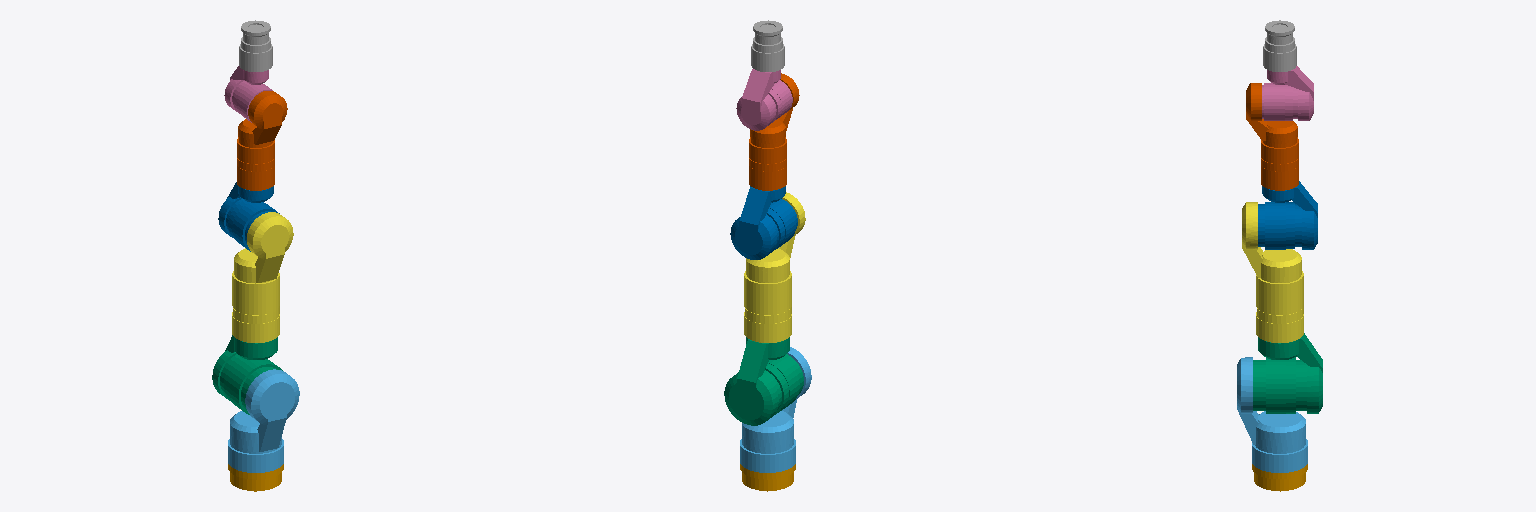
URDF robot description (arm):
<?xml version="1.0"?>
<robot name="arm"
	xmlns:sensor="http://playerstage.sourceforge.net/gazebo/xmlschema/#sensor"
	xmlns:controller="http://playerstage.sourceforge.net/gazebo/xmlschema/#controller"
	xmlns:interface="http://playerstage.sourceforge.net/gazebo/xmlschema/#interface">

	<!-- ################################################################################# -->
	<!-- add links-->
	<link name="link_arm0">
		<inertial>
			<origin xyz="0 0 0" rpy="0 0 0" />
			<mass value="1.8"/>
			<inertia ixx="0.01"  ixy="0"  ixz="0" iyy="0.01" iyz="0" izz="0.01" />
		</inertial>
		<visual>
			<origin xyz="0 0 0" rpy="1.5707963 0 0" />
			<geometry>
				<mesh filename="package://cob3_defs/common/files/meshes/arm0.stl" />
			</geometry>
		</visual>
		<collision>
			<origin xyz="0 0 0" rpy="1.5707963 0 0" />
			<geometry>
				<mesh filename="package://cob3_defs/common/files/meshes/arm0.stl" />
			</geometry>
		</collision>
	</link>
	
	<link name="link_arm1">
		<inertial>
			<origin xyz="0 0 0" rpy="0 0 0"/>
			<mass value="3.6"/>
			<inertia ixx="0.01"  ixy="0"  ixz="0" iyy="0.01" iyz="0" izz="0.01" />
		</inertial>
		<visual>
			<origin xyz="0 0 0" rpy="0 0 0" />
			<geometry>
				<mesh filename="package://cob3_defs/common/files/meshes/arm1.stl" />
			</geometry>
		</visual>
		<collision>
			<origin xyz="0 0 0" rpy="0 0 0" />
			<geometry>
				<mesh filename="package://cob3_defs/common/files/meshes/arm1.stl"/>
			</geometry>
		</collision>
	</link>
	
	<link name="link_arm2">
		<inertial>
			<origin xyz="0 0 0" rpy="0 0 0"/>
			<mass value="2.8"/>
			<inertia ixx="0.01"  ixy="0"  ixz="0" iyy="0.01" iyz="0" izz="0.01" />
		</inertial>
		<visual>
			<origin xyz="0 0 0" rpy="0 0 0" />
			<geometry>
				<mesh filename="package://cob3_defs/common/files/meshes/arm2.stl" />
			</geometry>
		</visual>
		<collision>
			<origin xyz="0 0 0" rpy="0 0 0" />
			<geometry>
				<mesh filename="package://cob3_defs/common/files/meshes/arm2.stl"/>
			</geometry>
		</collision>
	</link>
	
	<link name="link_arm3">
		<inertial>
			<origin xyz="0 0 0" rpy="0 0 0"/>
			<mass value="2.0"/>
			<inertia ixx="0.01"  ixy="0"  ixz="0" iyy="0.01" iyz="0" izz="0.01" />
		</inertial>
		<visual>
			<origin xyz="0 0 0" rpy="0 0 0" />
			<geometry>
				<mesh filename="package://cob3_defs/common/files/meshes/arm3.stl" />
			</geometry>
		</visual>
		<collision>
			<origin xyz="0 0 0" rpy="0 0 0" />
			<geometry>
				<mesh filename="package://cob3_defs/common/files/meshes/arm3.stl"/>
			</geometry>
		</collision>
	</link>
	
	<link name="link_arm4">
		<inertial>
			<origin xyz="0 0 0" rpy="0 0 0"/>
			<mass value="1.6"/>
			<inertia ixx="0.01"  ixy="0"  ixz="0" iyy="0.01" iyz="0" izz="0.01" />
		</inertial>
		<visual>
			<origin xyz="0 0 0" rpy="0 0 0" />
			<geometry>
				<mesh filename="package://cob3_defs/common/files/meshes/arm4.stl" />
			</geometry>
		</visual>
		<collision>
			<origin xyz="0 0 0" rpy="0 0 0" />
			<geometry>
				<mesh filename="package://cob3_defs/common/files/meshes/arm4.stl"/>
			</geometry>
		</collision>
	</link>
	
	<link name="link_arm5">
		<inertial>
			<origin xyz="0 0 0" rpy="0 0 0"/>
			<mass value="1.2"/>
			<inertia ixx="0.01"  ixy="0"  ixz="0" iyy="0.01" iyz="0" izz="0.01" />
		</inertial>
		<visual>
			<origin xyz="0 0 0" rpy="0 0 0" />
			<geometry>
				<mesh filename="package://cob3_defs/common/files/meshes/arm5.stl" />
			</geometry>
		</visual>
		<collision>
			<origin xyz="0 0 0" rpy="0 0 0" />
			<geometry>
				<mesh filename="package://cob3_defs/common/files/meshes/arm5.stl"/>
			</geometry>
		</collision>
	</link>
	
	<link name="link_arm6">
		<inertial>
			<origin xyz="0 0 0" rpy="0 0 0"/>
			<mass value="1.1"/>
			<inertia ixx="0.01"  ixy="0"  ixz="0" iyy="0.01" iyz="0" izz="0.01" />
		</inertial>
		<visual>
			<origin xyz="0 0 0" rpy="0 0 0" />
			<geometry>
				<mesh filename="package://cob3_defs/common/files/meshes/arm6.stl" />
			</geometry>
		</visual>
		<collision>
			<origin xyz="0 0 0" rpy="0 0 0" />
			<geometry>
				<mesh filename="package://cob3_defs/common/files/meshes/arm6.stl"/>
			</geometry>
		</collision>
	</link>
	
	<link name="link_arm7">
		<inertial>
			<origin xyz="0 0 0" rpy="0 0 0"/>
			<mass value="0.5"/>
			<inertia ixx="0.01"  ixy="0"  ixz="0" iyy="0.01" iyz="0" izz="0.01" />
		</inertial>
		<visual>
			<origin xyz="0 0 0" rpy="0 0 0" />
			<geometry>
				<mesh filename="package://cob3_defs/common/files/meshes/arm7.stl" />
			</geometry>
		</visual>
		<collision>
			<origin xyz="0 0 0" rpy="0 0 0" />
			<geometry>
				<mesh filename="package://cob3_defs/common/files/meshes/arm7.stl"/>
			</geometry>
		</collision>
	</link>

	<gazebo reference="link_arm0">
		<material>Gazebo/Grey</material>
		<turnGravityOff>false</turnGravityOff>
	</gazebo>

	<gazebo reference="link_arm1">
		<material>Gazebo/Grey</material>
		<turnGravityOff>false</turnGravityOff>
	</gazebo>
	
	<gazebo reference="link_arm2">
		<material>Gazebo/Red</material>
		<turnGravityOff>false</turnGravityOff>
	</gazebo>
	
	<gazebo reference="link_arm3">
		<material>Gazebo/Grey</material>
		<turnGravityOff>false</turnGravityOff>
	</gazebo>
	
	<gazebo reference="link_arm4">
		<material>Gazebo/Red</material>
		<turnGravityOff>false</turnGravityOff>
	</gazebo>

	<gazebo reference="link_arm5">
		<material>Gazebo/Grey</material>
		<turnGravityOff>false</turnGravityOff>
	</gazebo>

	<gazebo reference="link_arm6">
		<material>Gazebo/Red</material>
		<turnGravityOff>false</turnGravityOff>
	</gazebo>

	<gazebo reference="link_arm7">
		<material>Gazebo/Grey</material>
		<turnGravityOff>false</turnGravityOff>
	</gazebo>

	<!-- ################################################################################# -->
	<!-- add joints, corresponding to powercubes PRL 120,120,100,100,80,80,60 -->
	<joint name="joint_arm1" type="revolute">
		<origin xyz="0 0 0.0569" rpy="0 0 0"/>
		<parent link="link_arm0"/>
		<child link="link_arm1"/>
		<axis xyz="0 0 1"/>
	    <calibration reference_position="1.42154"/>
		<limit effort="370" velocity="0.4363" lower="-6.2831853" upper="6.2831853"/> <!-- rads. effort is N-m applied force. vel is rad/s. -->
		<!--safety_controller k_position="10" k_velocity="10" soft_lower_limit="-6.2" soft_upper_limit="6.2"/-->
		<!--dynamics damping="10.0" friction="10.0"/-->
	</joint>
	
	<joint name="joint_arm2" type="revolute">
		<origin xyz="0 0 0.1931" rpy="0 0 0"/>
		<parent link="link_arm1"/>
		<child link="link_arm2"/>
		<axis xyz="0 1 0"/>
	    <calibration reference_position="1.47881"/>
		<limit effort="370" velocity="0.4363" lower="-2.0943951" upper="2.0943951"/> <!-- rads. effort is N-m applied force. vel is rad/s. -->
		<!--safety_controller k_position="10" k_velocity="10" soft_lower_limit="-2.0" soft_upper_limit="2.0"/-->
		<!--dynamics damping="10.0" friction="10.0"/-->
	</joint>

	<joint name="joint_arm3" type="revolute">
		<origin xyz="0 0 0.110" rpy="0 0 0"/>
		<parent link="link_arm2"/>
		<child link="link_arm3"/>
		<axis xyz="0 0 1"/>
	    <calibration reference_position="-6.28087"/>
		<limit effort="176" velocity="0.4189" lower="-6.2831853" upper="6.2831853"/> <!-- rads. effort is N-m applied force. vel is rad/s. -->
		<!--safety_controller k_position="10" k_velocity="10" soft_lower_limit="-6.2" soft_upper_limit="6.2"/-->
		<!--dynamics damping="10.0" friction="10.0"/-->
	</joint>	

	<joint name="joint_arm4" type="revolute">
		<origin xyz="0 0 0.298" rpy="0 0 0" />
		<parent link="link_arm3"/>
		<child link="link_arm4"/>
		<axis xyz="0 1 0" />
	    <calibration reference_position="0.0192641"/>
		<limit effort="176" velocity="0.4189" upper="2.0943951" lower="-2.0943951" /> <!-- rads. effort is N-m applied force. vel is rad/s. -->
		<!--safety_controller k_position="10" k_velocity="10" soft_lower_limit="-2.0" soft_upper_limit="2.0"/-->
		<!--dynamics damping="10.0" friction="10.0"/-->
	</joint>

	<joint name="joint_arm5" type="revolute">
		<origin xyz="0 0 0.100" rpy="0 0 0" />
		<parent link="link_arm4"/>
		<child link="link_arm5"/>
		<axis xyz="0 0 1" />
	    <calibration reference_position="-2.86457"/>
		<limit effort="41.6" velocity="0.4363" upper="6.2831853" lower="-6.2831853" /> <!-- rads. effort is N-m applied force. vel is rad/s. -->
		<!--safety_controller k_position="10" k_velocity="10" soft_lower_limit="-6.2" soft_upper_limit="6.2"/-->
		<!--dynamics damping="10.0" friction="10.0"/-->
	</joint>
	
	<joint name="joint_arm6" type="revolute">
		<origin xyz="0 0 0.2165" rpy="0 0 0" />
		<parent link="link_arm5"/>
		<child link="link_arm6"/>
		<axis xyz="0 1 0" />
	    <calibration reference_position="0.00414364"/>
		<limit effort="20.1" velocity="0.4363" upper="2.0943951" lower="-2.0943951" /> <!-- rads. effort is N-m applied force. vel is rad/s. -->
		<!--safety_controller k_position="10" k_velocity="10" soft_lower_limit="-2.0" soft_upper_limit="2.0"/-->
		<!--dynamics damping="10.0" friction="10.0"/-->
	</joint>
	
	<joint name="joint_arm7" type="revolute">
		<origin xyz="0 0 0.080" rpy="0 0 0" />
		<parent link="link_arm6"/>
		<child link="link_arm7"/>
		<axis xyz="0 0 1" />
	    <calibration reference_position="-0.000421242"/>
		<limit effort="9.6" velocity="0.8727" upper="6.2831853" lower="-6.2831853" /> <!-- rads. effort is N-m applied force. vel is rad/s. -->
		<!--safety_controller k_position="10" k_velocity="10" soft_lower_limit="-6.2" soft_upper_limit="6.2"/-->
		<!--dynamics damping="10.0" friction="10.0"/-->
	</joint>

	<!-- ################################################################################# -->
	<!-- add transmissions -->
	<transmission name="trans_arm1" type="SimpleTransmission">
		<actuator name="motor_arm1"/>
		<joint name="joint_arm1"/>
		<mechanicalReduction>1</mechanicalReduction>
	</transmission>
	
	<transmission name="trans_arm2" type="SimpleTransmission">
		<actuator name="motor_arm2"/>
		<joint name="joint_arm2"/>
		<mechanicalReduction>1</mechanicalReduction>
	</transmission>
	
	<transmission name="trans_arm3" type="SimpleTransmission">
		<actuator name="motor_arm3"/>
		<joint name="joint_arm3"/>
		<mechanicalReduction>1</mechanicalReduction>
	</transmission>
	
	<transmission name="trans_arm4" type="SimpleTransmission">
		<actuator name="motor_arm4"/>
		<joint name="joint_arm4"/>
		<mechanicalReduction>1</mechanicalReduction>
	</transmission>
	
	<transmission name="trans_arm5" type="SimpleTransmission">
		<actuator name="motor_arm5"/>
		<joint name="joint_arm5"/>
		<mechanicalReduction>1</mechanicalReduction>
	</transmission>
	
	<transmission name="trans_arm6" type="SimpleTransmission">
		<actuator name="motor_arm6"/>
		<joint name="joint_arm6"/>
		<mechanicalReduction>1</mechanicalReduction>
	</transmission>
	
	<transmission name="trans_arm7" type="SimpleTransmission">
		<actuator name="motor_arm7"/>
		<joint name="joint_arm7"/>
		<mechanicalReduction>1</mechanicalReduction>
	</transmission>

</robot>

--- What the picture shows (computed from the rendered views, not written in the file) ---
Views: 3 orthographic renders of the robot side by side, from view 1: azimuth 30°, elevation 25°; view 2: azimuth 150°, elevation 25°; view 3: azimuth 270°, elevation 25°.
Robot: arm — 8 links, 7 joints (7 revolute); root link link_arm0; default pose: every joint at zero.
Links seen in each view (by area): view 1: link_arm3, link_arm1, link_arm5, link_arm2, link_arm4, link_arm7, link_arm6, link_arm0; view 2: link_arm2, link_arm3, link_arm4, link_arm1, link_arm5, link_arm6, link_arm7, link_arm0; view 3: link_arm3, link_arm2, link_arm1, link_arm4, link_arm5, link_arm6, link_arm7, link_arm0.
Link boxes in pixels (x1=…): link_arm3: x1=232, y1=212, x2=293, y2=342; link_arm1: x1=228, y1=369, x2=299, y2=472; link_arm5: x1=237, y1=91, x2=287, y2=190; link_arm2: x1=212, y1=335, x2=282, y2=414; link_arm4: x1=218, y1=182, x2=279, y2=251; link_arm7: x1=239, y1=20, x2=272, y2=71; link_arm6: x1=224, y1=66, x2=272, y2=122; link_arm0: x1=228, y1=464, x2=283, y2=491; link_arm2: x1=724, y1=337, x2=803, y2=425; link_arm3: x1=744, y1=192, x2=805, y2=342; link_arm4: x1=730, y1=186, x2=797, y2=259; link_arm1: x1=740, y1=347, x2=811, y2=472; link_arm5: x1=749, y1=73, x2=799, y2=190; link_arm6: x1=736, y1=69, x2=792, y2=130; link_arm7: x1=751, y1=20, x2=784, y2=71; link_arm0: x1=740, y1=464, x2=795, y2=491; link_arm3: x1=1242, y1=202, x2=1303, y2=342; link_arm2: x1=1253, y1=333, x2=1322, y2=413; link_arm1: x1=1237, y1=357, x2=1307, y2=472; link_arm4: x1=1258, y1=181, x2=1317, y2=249; link_arm5: x1=1246, y1=83, x2=1298, y2=190; link_arm6: x1=1262, y1=66, x2=1313, y2=120; link_arm7: x1=1263, y1=20, x2=1296, y2=71; link_arm0: x1=1252, y1=464, x2=1307, y2=491.
Bounding box of the posed robot: 0.1319 × 0.2 × 1.17 m (x, y, z).
Meshes: 8 distinct files referenced, 8 mesh visuals loaded (8 binary STL).